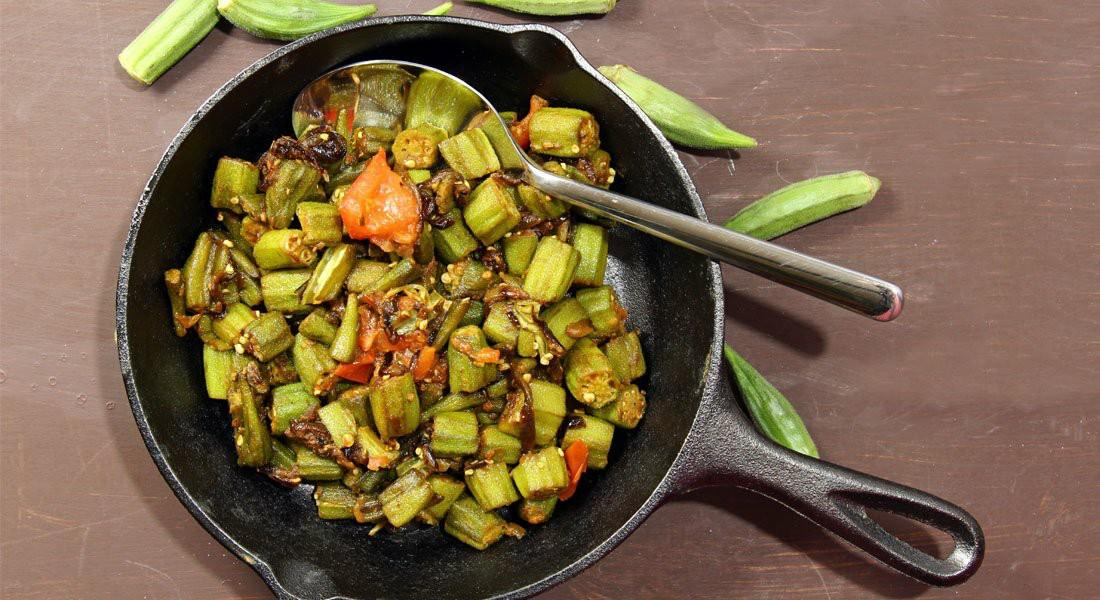BhindiMasala: (165, 72, 647, 549)
